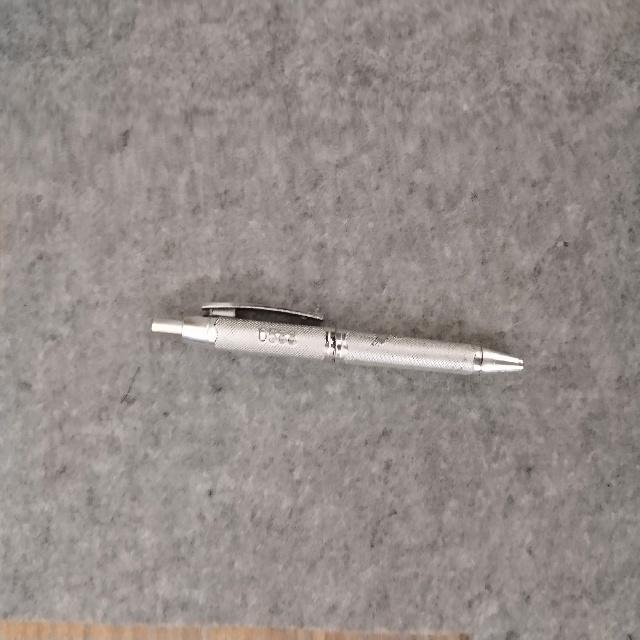signature pen: (152, 303, 522, 373)
